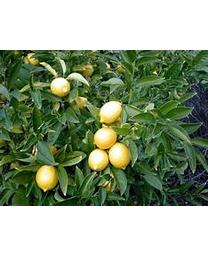lemon: (36, 163, 57, 193), (97, 101, 123, 121), (111, 144, 131, 170), (89, 149, 111, 170), (50, 77, 72, 96), (96, 129, 115, 147)
